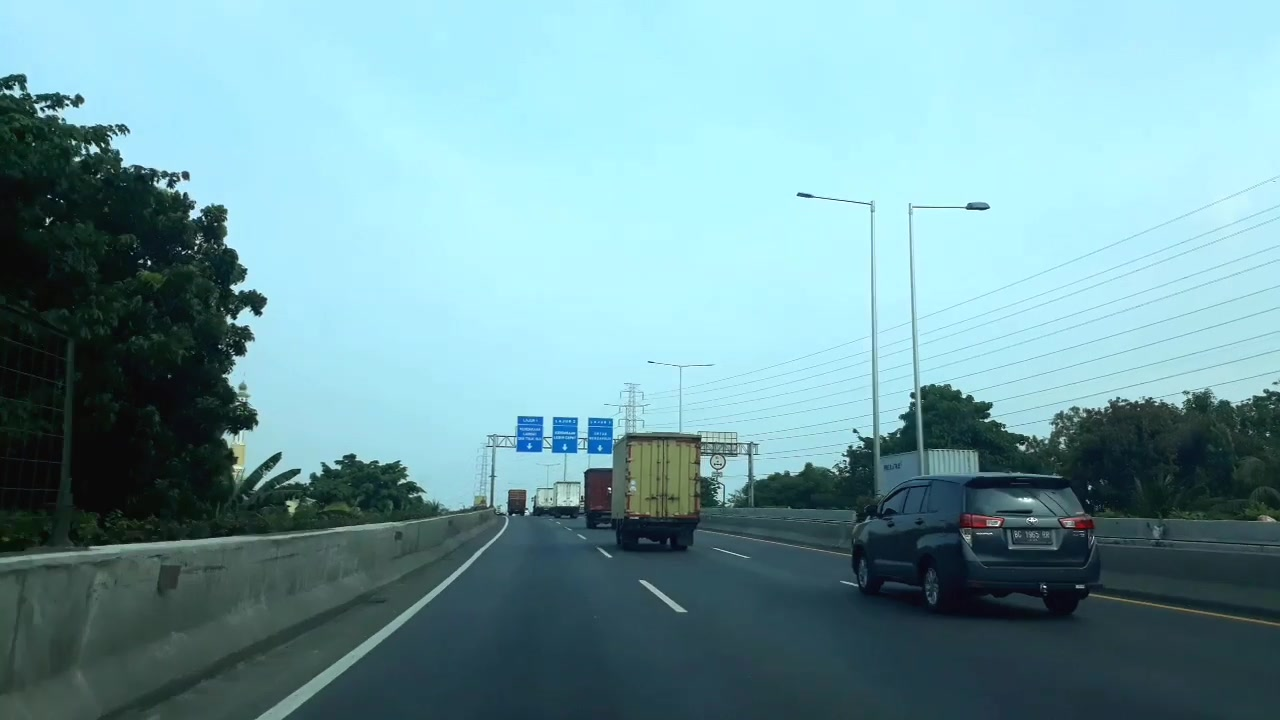plate_positive: (1010, 528, 1053, 545)
